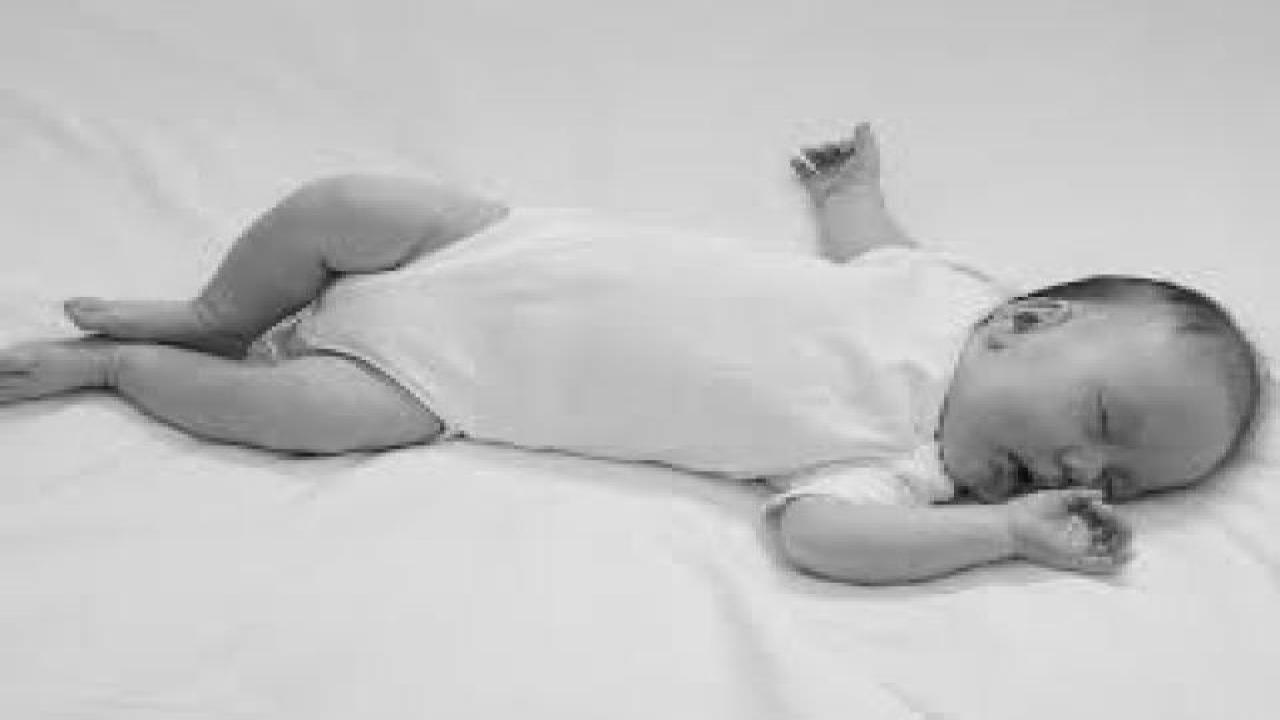hand: (1014, 489, 1140, 589), (776, 118, 906, 204)
